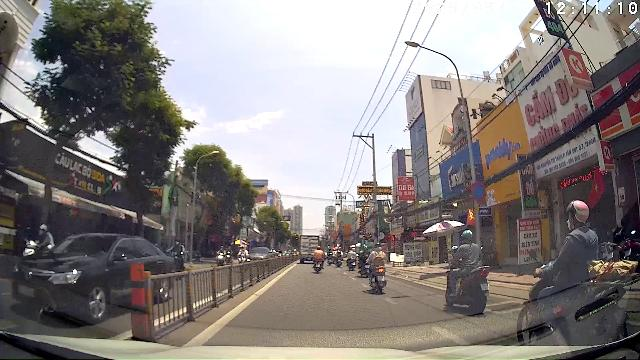131a-cam-do-xe: (471, 181, 486, 204)
